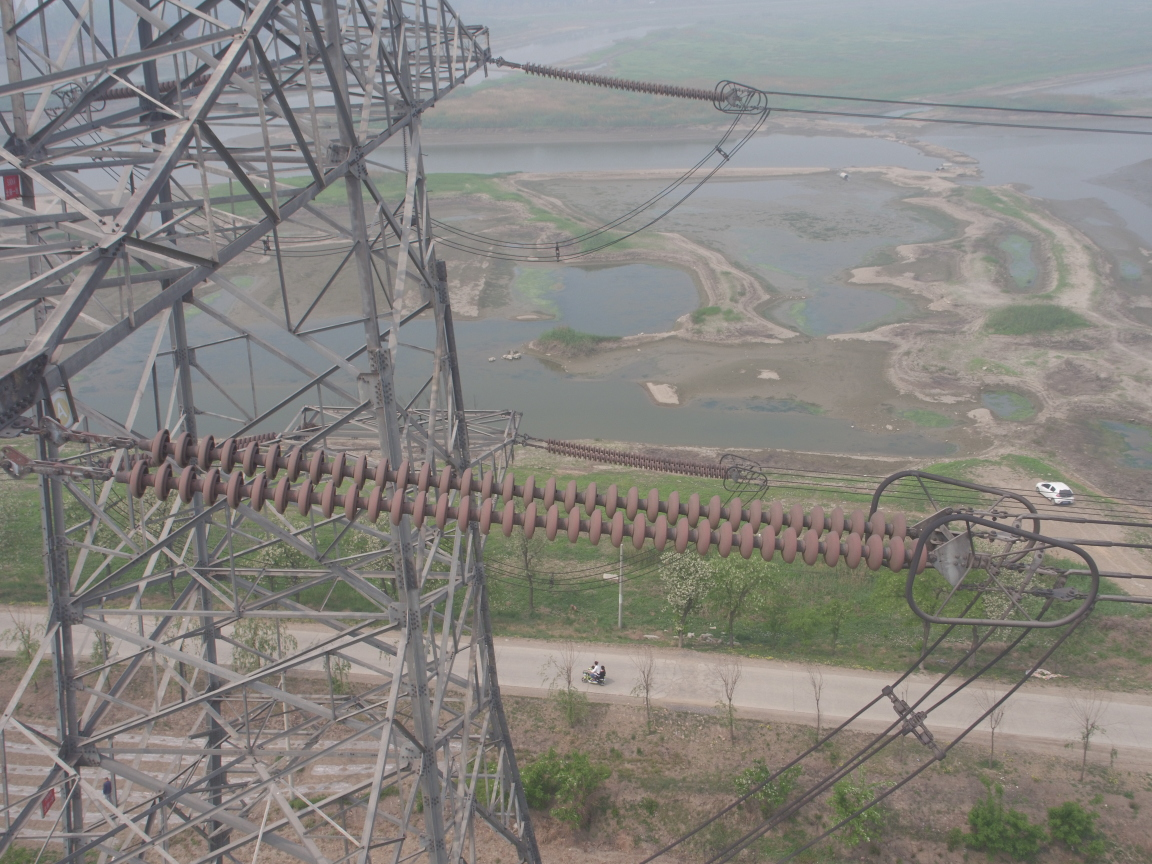insulator: (87, 425, 945, 576), (510, 55, 731, 108), (533, 434, 735, 481)
